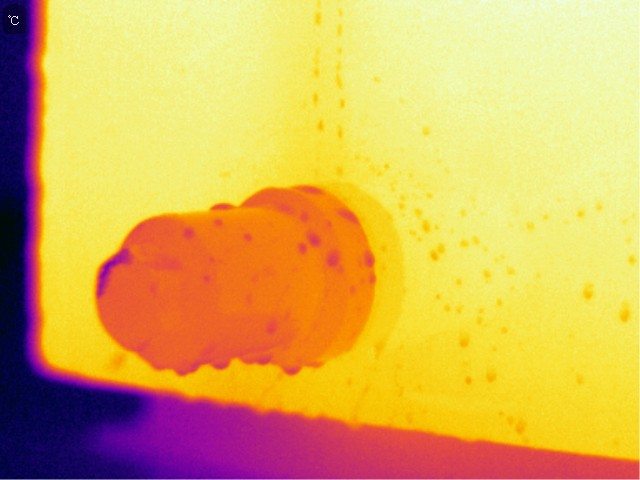Water: (332, 8, 346, 140), (406, 202, 439, 236), (293, 228, 325, 258), (575, 198, 607, 226), (519, 206, 552, 231), (454, 194, 482, 221), (306, 90, 324, 131), (307, 43, 326, 80), (244, 347, 272, 372), (142, 354, 171, 377), (338, 202, 362, 229), (208, 198, 242, 216), (512, 418, 534, 443), (213, 350, 234, 376), (170, 366, 203, 382), (424, 238, 445, 261), (297, 181, 323, 199), (281, 362, 304, 381), (618, 299, 633, 328), (182, 219, 200, 243), (325, 246, 341, 272), (311, 1, 324, 29), (461, 234, 484, 249), (625, 250, 638, 276), (364, 271, 388, 285), (483, 367, 502, 384), (362, 246, 378, 266), (583, 281, 596, 304), (240, 227, 257, 244), (480, 264, 495, 282), (265, 315, 277, 336), (418, 124, 436, 138), (457, 333, 474, 347), (459, 373, 473, 387), (450, 273, 462, 287), (214, 216, 225, 231)
